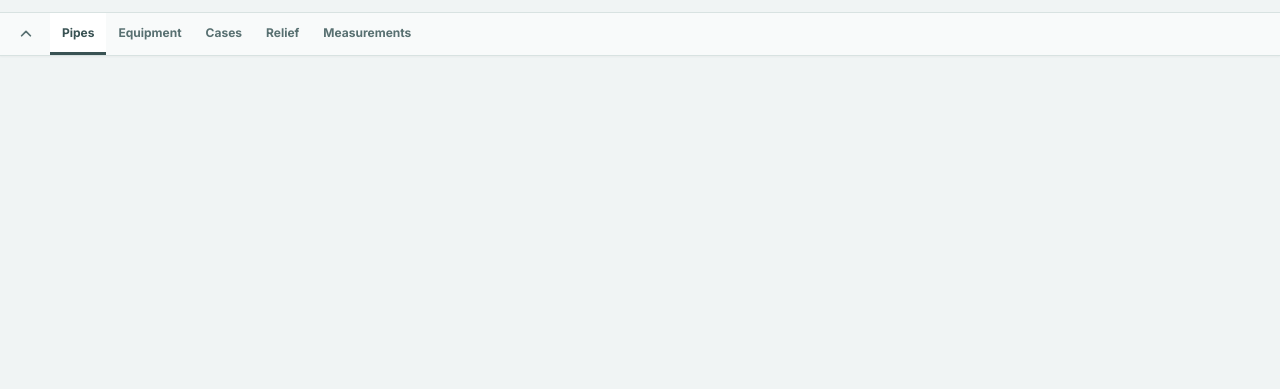
Test: collapsed data panel › hides the filter toolbar while collapsed and shows it again on expand
Expected: the field labelled "Filter list" is not shown
Click the button named "Expand data panel": {"x": 26, "y": 34} [12,20,40,48]
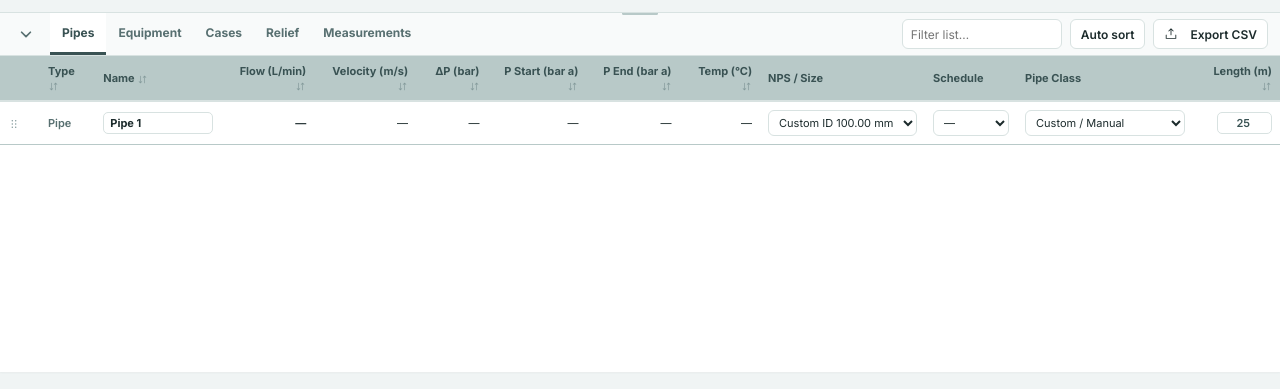
Now the field labelled "Filter list" is shown, box [902,19,1062,49]
